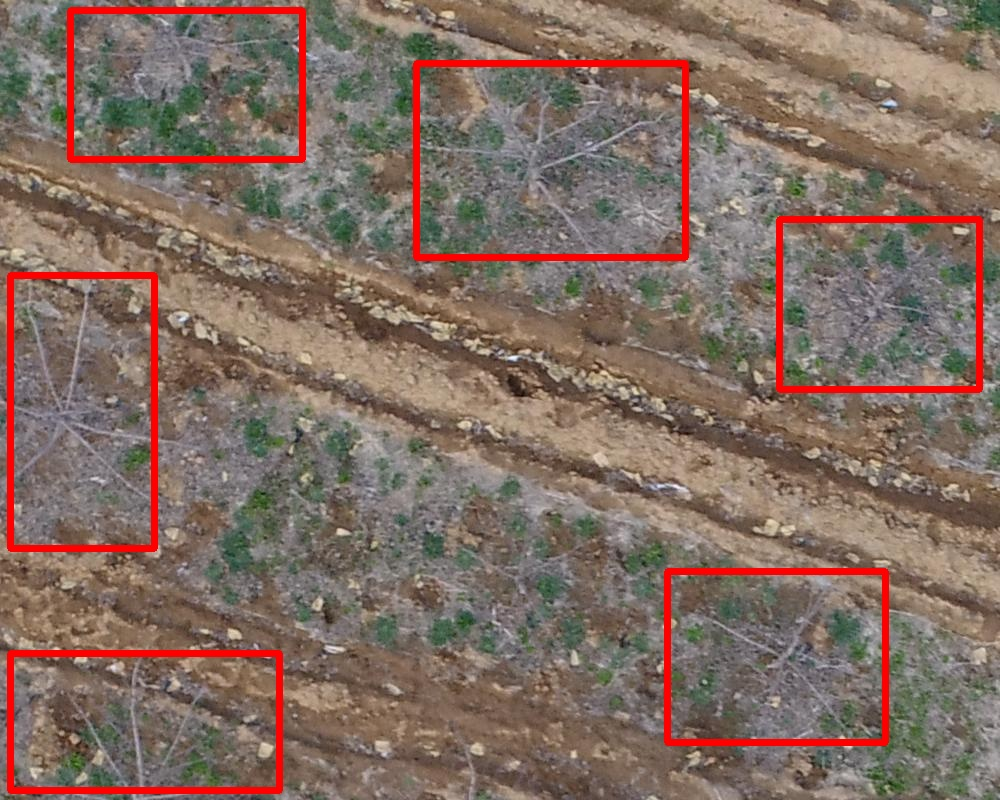apple: (416, 63, 685, 257), (10, 275, 154, 548), (667, 571, 885, 742), (10, 653, 279, 790), (70, 10, 302, 159), (779, 219, 979, 389)
